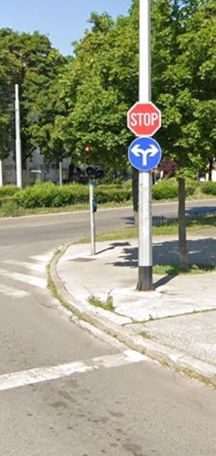Obavezno zaustavljanje: (127, 101, 161, 137)
